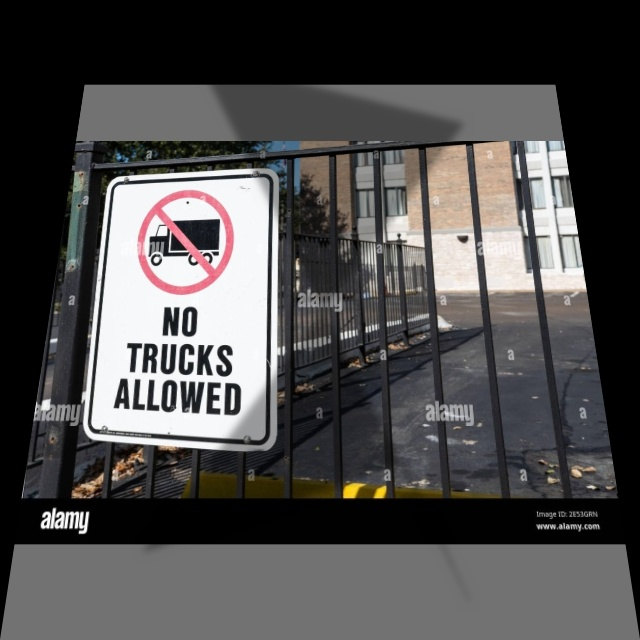Truck_Prohibited: (126, 182, 241, 301)
